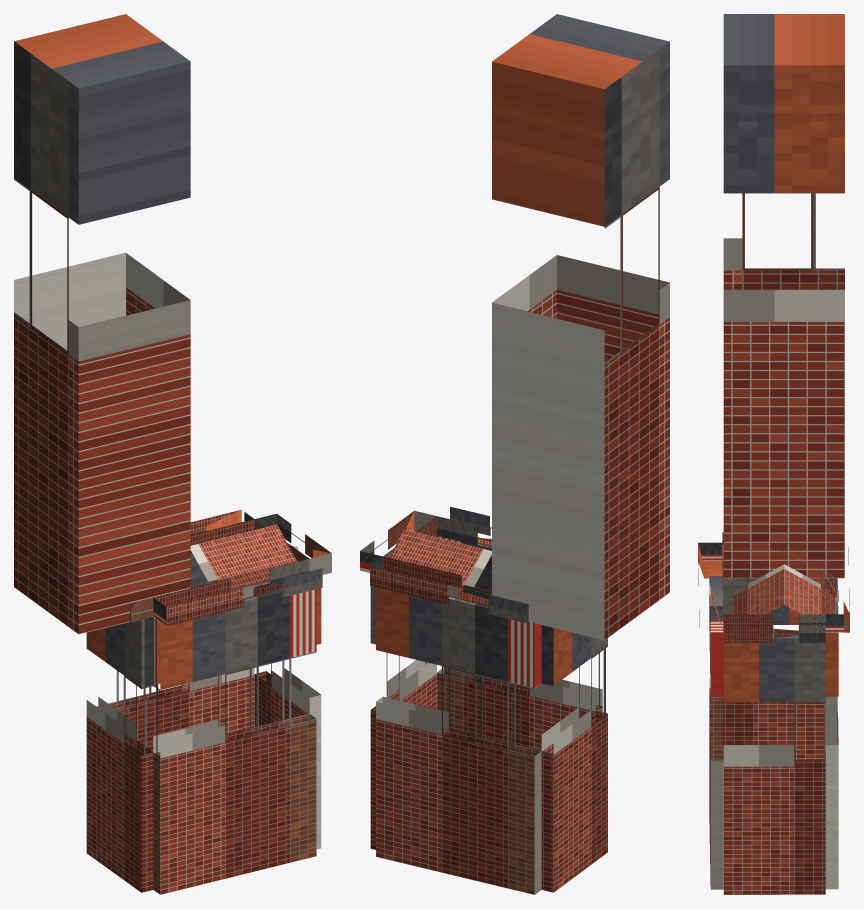
3 renders of one model, left to right at view 1: azimuth 30°, elevation 25°; view 2: azimuth 150°, elevation 25°; view 3: azimuth 270°, elevation 25°, orthographic. The views are drawn at different scales.
Parts seen in each view (by area): view 1: 1106964415__chimney_0_xb, 1106964415__wall_1_xb, 1106964415__wall_2_xb, 1106964415__wall_3_xb, 1106964415__cornice_1, 1106964415_roof_-1_xb, 1106964415__wall_0_xb, 1106964415__cornice_3, 1106964415__cornice_0; view 2: 1106964415__chimney_0_xb, 1106964415__wall_3_xb, 1106964415__wall_2_xb, 1106964415__wall_1_xb, 1106964415__cornice_3, 1106964415__wall_0_xb, 1106964415_roof_1_xb, 1106964415__cornice_1, 1106964415__cornice_0; view 3: 1106964415__chimney_0_xb, 1106964415__wall_0_xb, 1106964415__wall_2_xb, 1106964415__wall_1_xb, 1106964415__wall_3_xb, 1106964415__cornice_0, 1106964415_roof_-1_xb, 1106964415_roof_1_xb, 1106964415__cornice_1, 1106964415__cornice_3.
Part boxes in pixels (x1,y1,x2,y2): 1106964415__chimney_0_xb: [14, 14, 190, 634]; 1106964415__wall_1_xb: [153, 587, 316, 894]; 1106964415__wall_2_xb: [86, 617, 153, 892]; 1106964415__wall_3_xb: [96, 554, 254, 751]; 1106964415__cornice_1: [153, 559, 322, 626]; 1106964415_roof_-1_xb: [190, 525, 297, 590]; 1106964415__wall_0_xb: [254, 583, 321, 849]; 1106964415__cornice_3: [190, 510, 254, 554]; 1106964415__cornice_0: [254, 513, 331, 574]; 1106964415__chimney_0_xb: [492, 14, 669, 640]; 1106964415__wall_3_xb: [376, 587, 541, 894]; 1106964415__wall_2_xb: [541, 625, 607, 892]; 1106964415__wall_1_xb: [437, 536, 602, 750]; 1106964415__cornice_3: [370, 556, 528, 623]; 1106964415__wall_0_xb: [370, 536, 436, 849]; 1106964415_roof_1_xb: [389, 529, 491, 591]; 1106964415__cornice_1: [437, 506, 491, 548]; 1106964415__cornice_0: [360, 510, 436, 572]; 1106964415__chimney_0_xb: [723, 14, 844, 578]; 1106964415__wall_0_xb: [723, 635, 825, 894]; 1106964415__wall_2_xb: [722, 556, 824, 759]; 1106964415__wall_1_xb: [709, 561, 723, 889]; 1106964415__wall_3_xb: [824, 578, 838, 889]; 1106964415__cornice_0: [723, 614, 825, 643]; 1106964415_roof_-1_xb: [732, 550, 784, 624]; 1106964415_roof_1_xb: [784, 550, 835, 632]; 1106964415__cornice_1: [698, 542, 723, 631]; 1106964415__cornice_3: [825, 547, 849, 632].
Size of the model in its own units: 0.3396 by 1.05 by 0.1877.
Materials: 1 (1 with a texture image).
